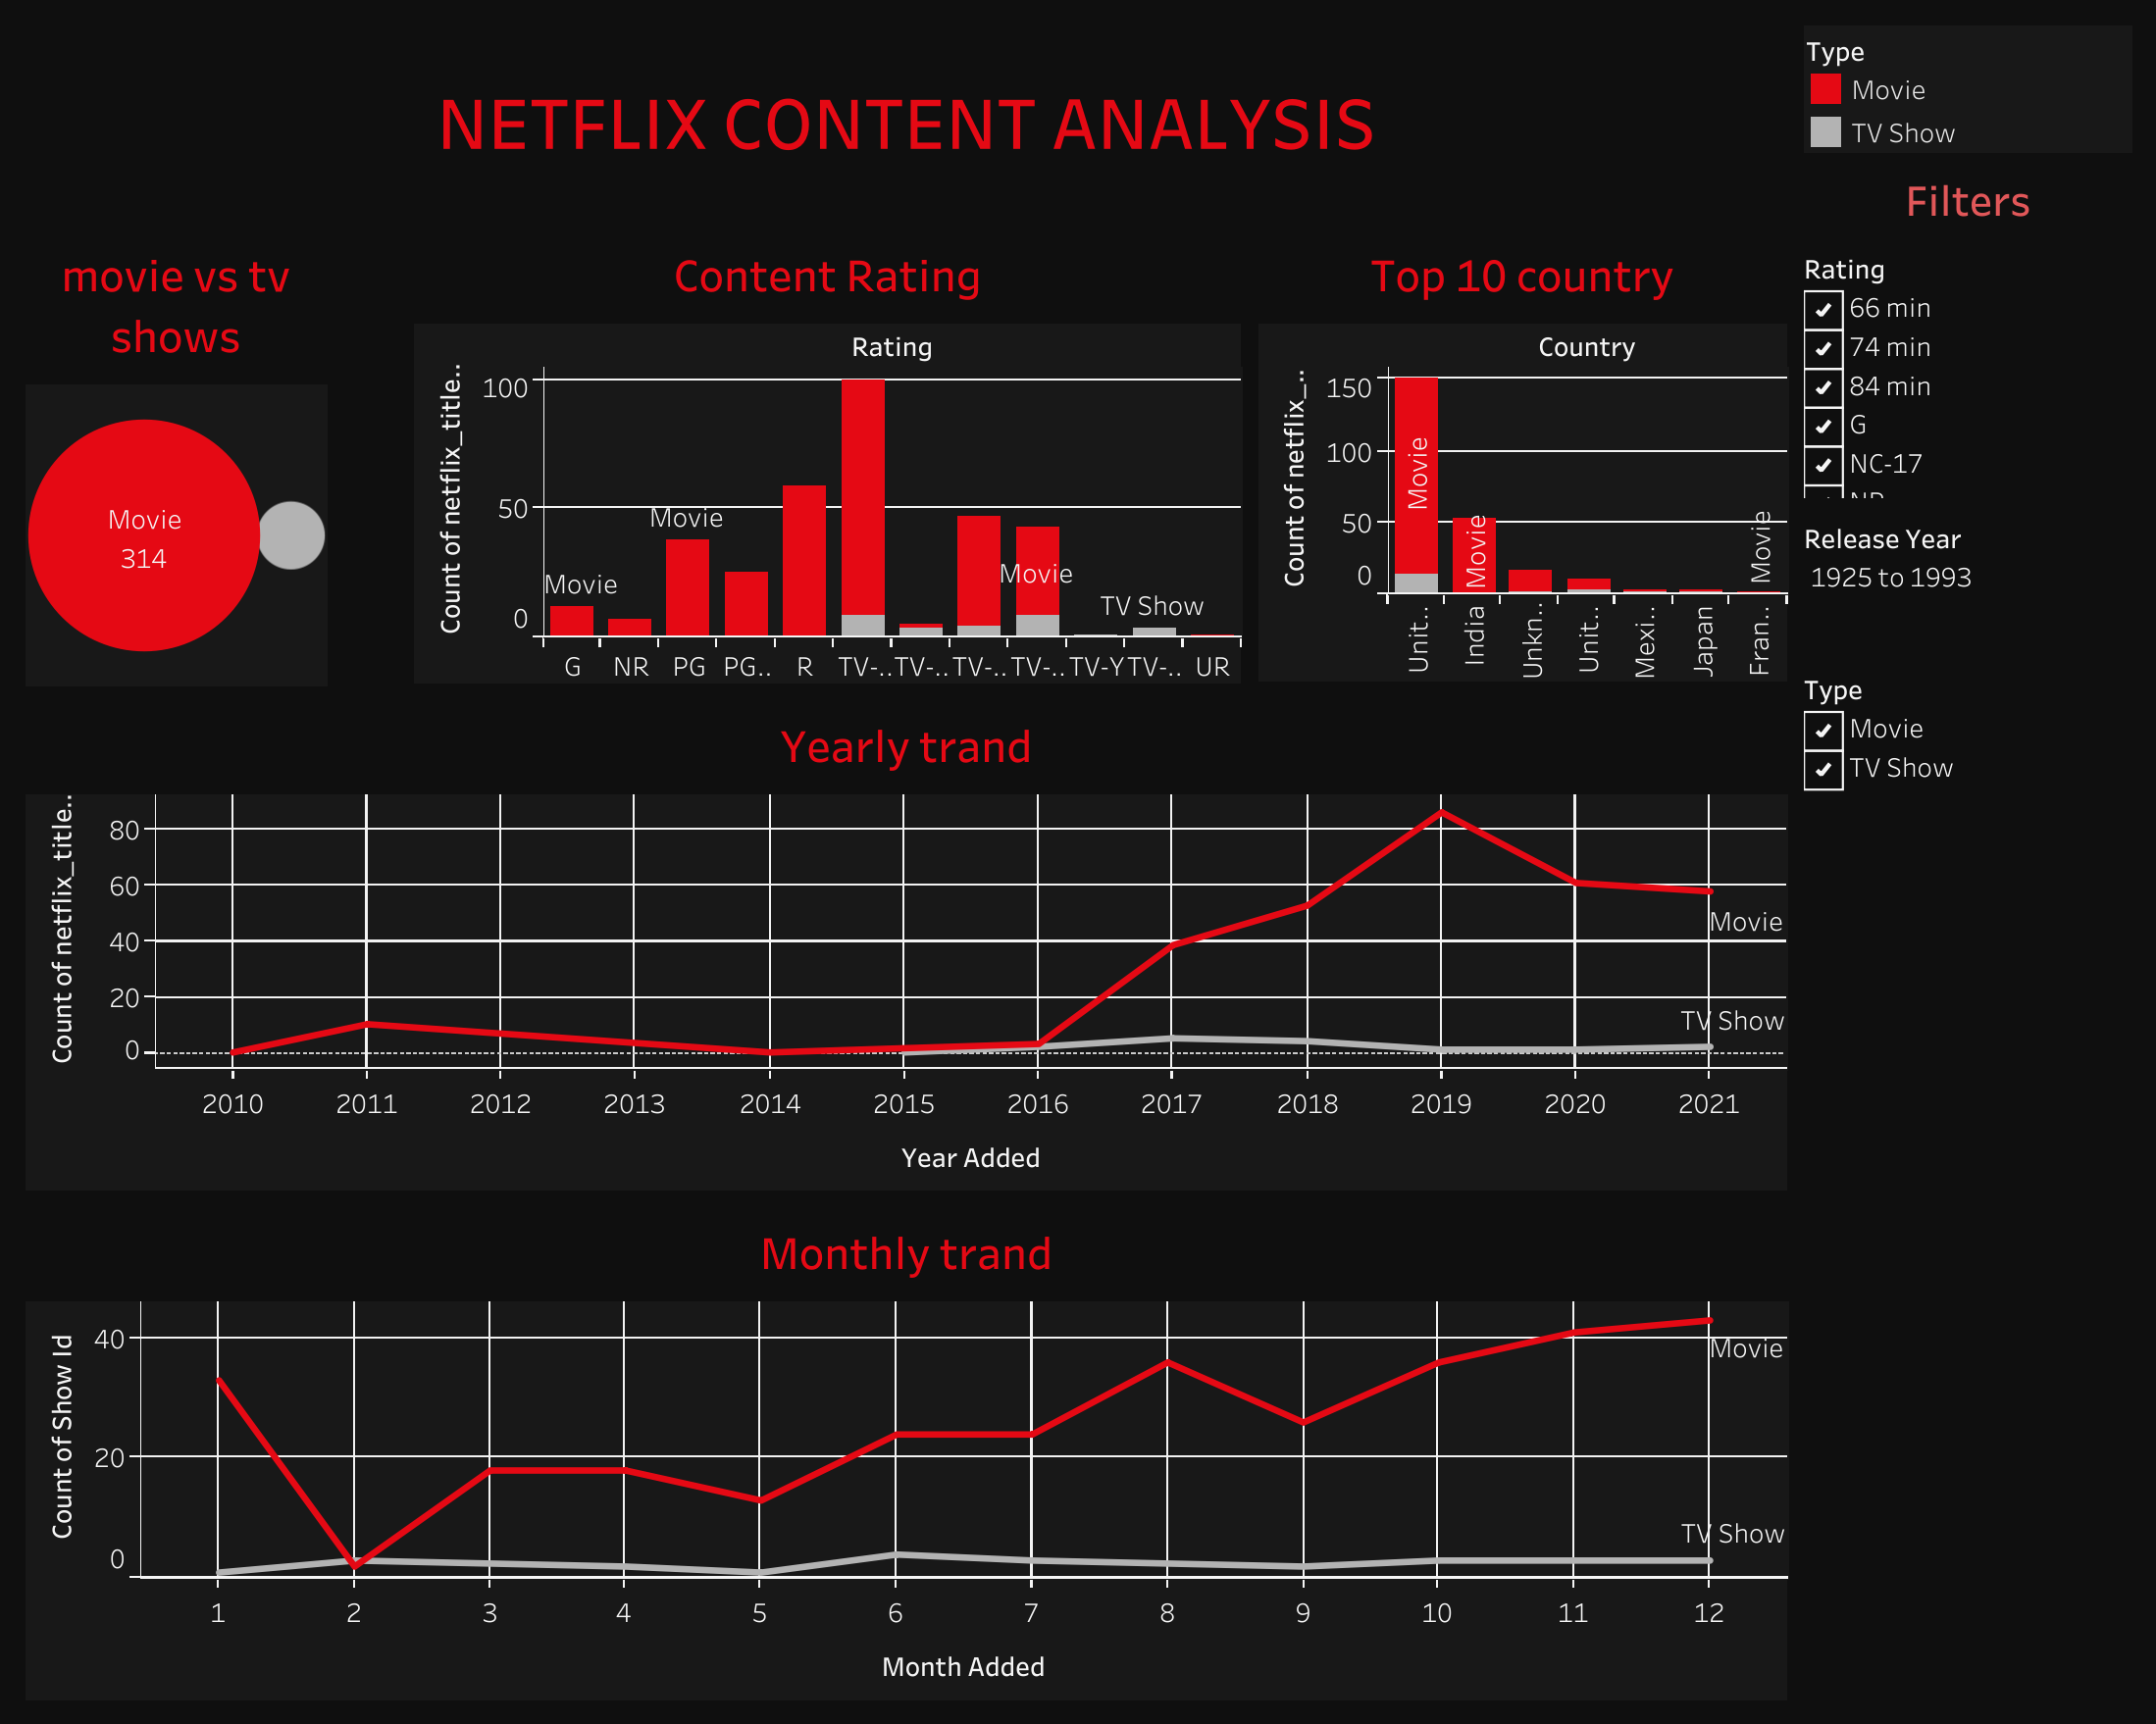

This screenshot's page, from the dashboard's own definition file:
{"tool":"tableau","page":{"name":"Dashboard 1","canvas":[1000,800],"ordinal":0},"visuals":[{"type":"text","box":[8,8,824,95]},{"type":"legend","title":"movie vs tv shows","param":"[federated.0npbspa15sybe017fnitw1wopfwk].[none:type:nk]","box":[832,8,160,67]},{"type":"text","box":[832,75,160,35]},{"type":"worksheet","title":"movie vs tv shows","mark":"Circle","box":[8,103,180,218]},{"type":"worksheet","title":"Content Rating","mark":"Automatic","rows":["netflix_titles_cleaned.csv_A1D55D347DFD4C23B04F84F718E0EB94"],"cols":["rating"],"box":[188,103,388,218]},{"type":"worksheet","title":"Top 10 country","mark":"Automatic","rows":["netflix_titles_cleaned.csv_A1D55D347DFD4C23B04F84F718E0EB94"],"cols":["country"],"box":[576,103,255.8,218]},{"type":"filter","title":"Content Rating","param":"[federated.0npbspa15sybe017fnitw1wopfwk].[none:rating:nk]","box":[832,110,160,125]},{"type":"filter","title":"Content Rating","param":"[federated.0npbspa15sybe017fnitw1wopfwk].[none:release_year:qk]","box":[832,235,160,70]},{"type":"filter","title":"Content Rating","param":"[federated.0npbspa15sybe017fnitw1wopfwk].[none:type:nk]","box":[832,305,160,93]},{"type":"worksheet","title":"Yearly trand","mark":"Automatic","rows":["netflix_titles_cleaned.csv_A1D55D347DFD4C23B04F84F718E0EB94"],"cols":["year_added"],"box":[8,321,824,235.5]},{"type":"legend","title":"movie vs tv shows","param":"[federated.0npbspa15sybe017fnitw1wopfwk].[__tableau_internal_object_id__].[cnt:n","box":[832,398,160,22]},{"type":"worksheet","title":"Monthly trand","mark":"Automatic","rows":["show_id"],"cols":["month_added"],"box":[8,556.5,824,235.5]}]}

Visuals, with their boxes in screenshot pixels (x1, y1, x2, y2), scaled from the page's 1000x800 canvas onto the 2156x1724 screenshot:
text: BBox(18, 18, 1794, 222)
"movie vs tv shows" legend: BBox(1794, 18, 2138, 162)
text: BBox(1794, 162, 2138, 237)
"movie vs tv shows" worksheet (Circle marks): BBox(18, 222, 405, 691)
"Content Rating" worksheet: BBox(405, 222, 1242, 691)
"Top 10 country" worksheet: BBox(1242, 222, 1793, 691)
"Content Rating" filter: BBox(1794, 237, 2138, 506)
"Content Rating" filter: BBox(1794, 506, 2138, 657)
"Content Rating" filter: BBox(1794, 657, 2138, 858)
"Yearly trand" worksheet: BBox(18, 691, 1794, 1199)
"movie vs tv shows" legend: BBox(1794, 858, 2138, 905)
"Monthly trand" worksheet: BBox(18, 1199, 1794, 1706)
